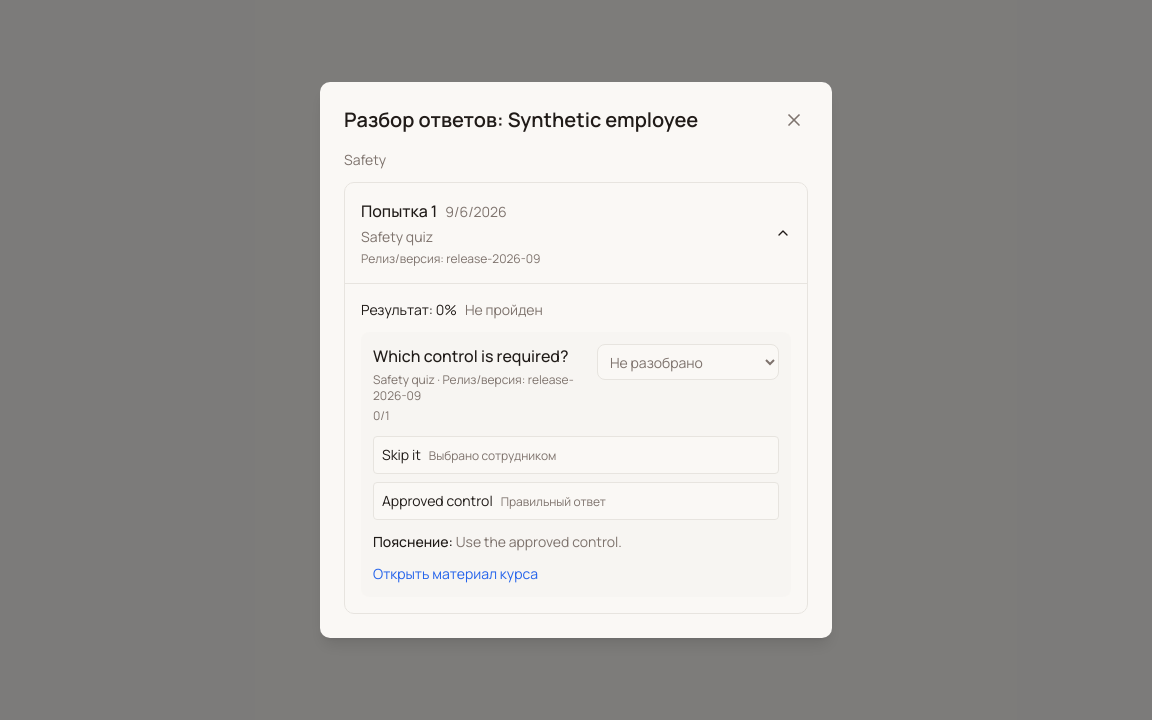
Test case: learner answer dialog › exposes accessible expanded state for attempt details
Click the button "Попытка 19/6/2026 Safety quiz Релиз/версия: release-2026-09". click: [399, 211]
box: x1=345 y1=183 x2=807 y2=283
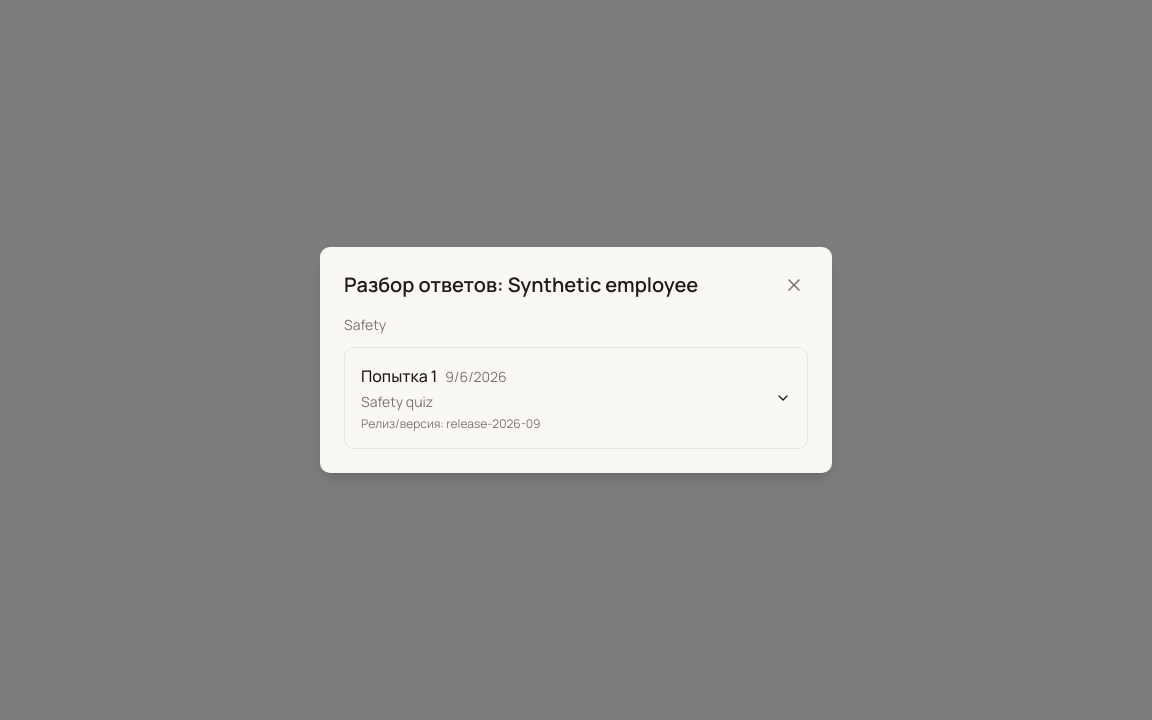
Check: the button "Попытка 19/6/2026 Safety quiz Релиз/версия: release-2026-09" is collapsed, box x1=345 y1=348 x2=807 y2=448
